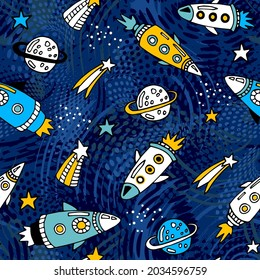roket: (115, 10, 204, 76), (18, 200, 123, 249), (119, 129, 188, 199), (1, 78, 56, 138), (176, 1, 254, 33)
